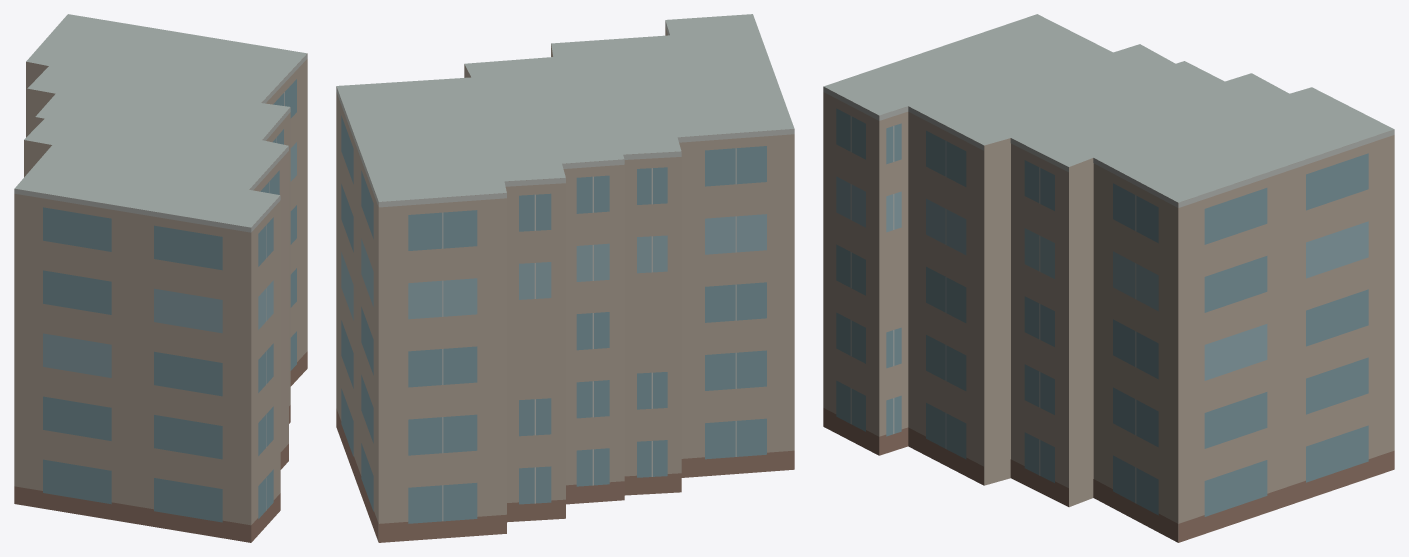
The model's file is survey-upis-32704294.glb.
The picture shows the model from 3 angles, left to right: view 1: azimuth 30°, elevation 25°; view 2: azimuth 150°, elevation 25°; view 3: azimuth 270°, elevation 25°; orthographic projection. The views are drawn at different scales.
Visible parts, largest first — view 1: survey-upis-32704294.tmp; view 2: survey-upis-32704294.tmp; view 3: survey-upis-32704294.tmp.
Boxes of the visible parts, x1,y1,x2,y2 form: survey-upis-32704294.tmp: (14, 14, 307, 542); survey-upis-32704294.tmp: (336, 14, 794, 542); survey-upis-32704294.tmp: (823, 14, 1394, 542).
Bounding box in the file's own units: 18.15 × 15.25 × 23.21.
